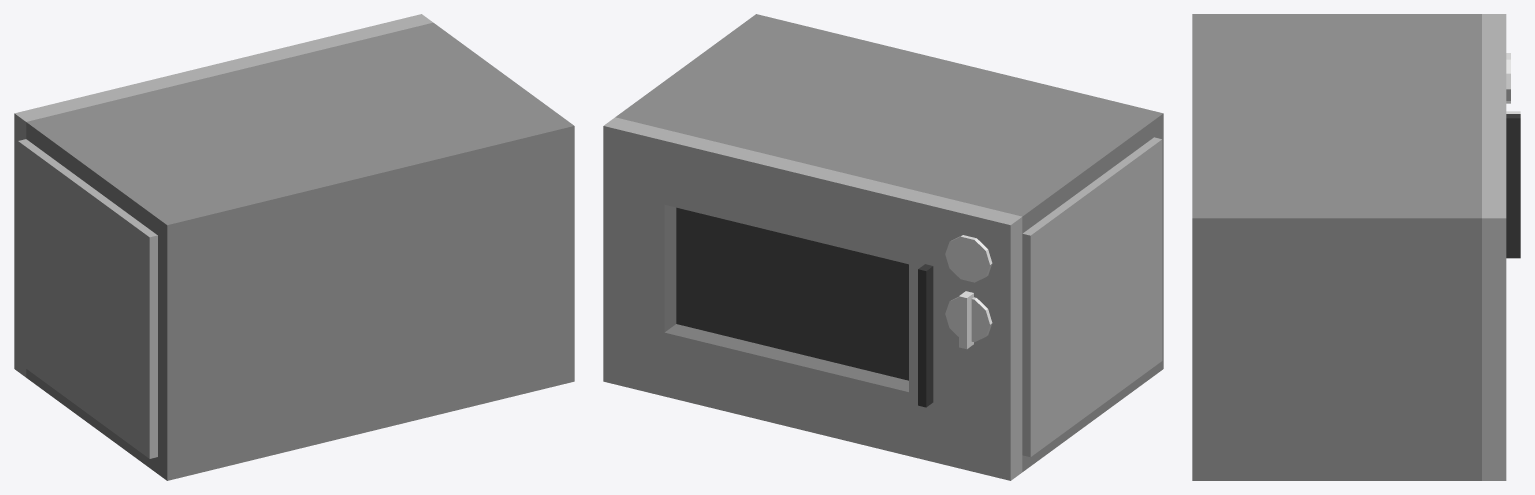
The model's file is microwave.fbx.
3 renders of one model, left to right at view 1: azimuth 30°, elevation 25°; view 2: azimuth 150°, elevation 25°; view 3: azimuth 270°, elevation 25°, orthographic. The views are drawn at different scales.
Visible parts, largest first — view 1: cube, cube_5, cube_4, cube_2, cube_1; view 2: cube, cube_5, cube_2, cube_4, cube_3, cube_1, cube_7, cylinder, cylinder_1, cube_6; view 3: cube, cube_1, cube_4, cube_7, cube_2.
Boxes of the visible parts, box(x1,y1,x2,y2) form: cube: box(26, 22, 574, 480); cube_5: box(18, 139, 157, 458); cube_4: box(116, 29, 371, 96); cube_2: box(14, 88, 127, 377); cube_1: box(361, 14, 432, 37); cube: box(615, 14, 1163, 471); cube_5: box(1022, 137, 1162, 457); cube_2: box(909, 192, 1022, 480); cube_4: box(664, 132, 920, 264); cube_3: box(664, 324, 908, 455); cube_1: box(603, 117, 676, 396); cube_7: box(918, 264, 933, 407); cylinder: box(945, 235, 992, 282); cylinder_1: box(945, 296, 992, 342); cube_6: box(959, 291, 973, 349); cube: box(1192, 14, 1481, 480); cube_1: box(1482, 187, 1506, 480); cube_4: box(1482, 65, 1506, 187); cube_7: box(1506, 114, 1520, 258); cube_2: box(1482, 14, 1506, 64).
Bounding box in the file's own units: 31.88 × 18.75 × 21.25.
Materials: 1 (1 with a texture image).
